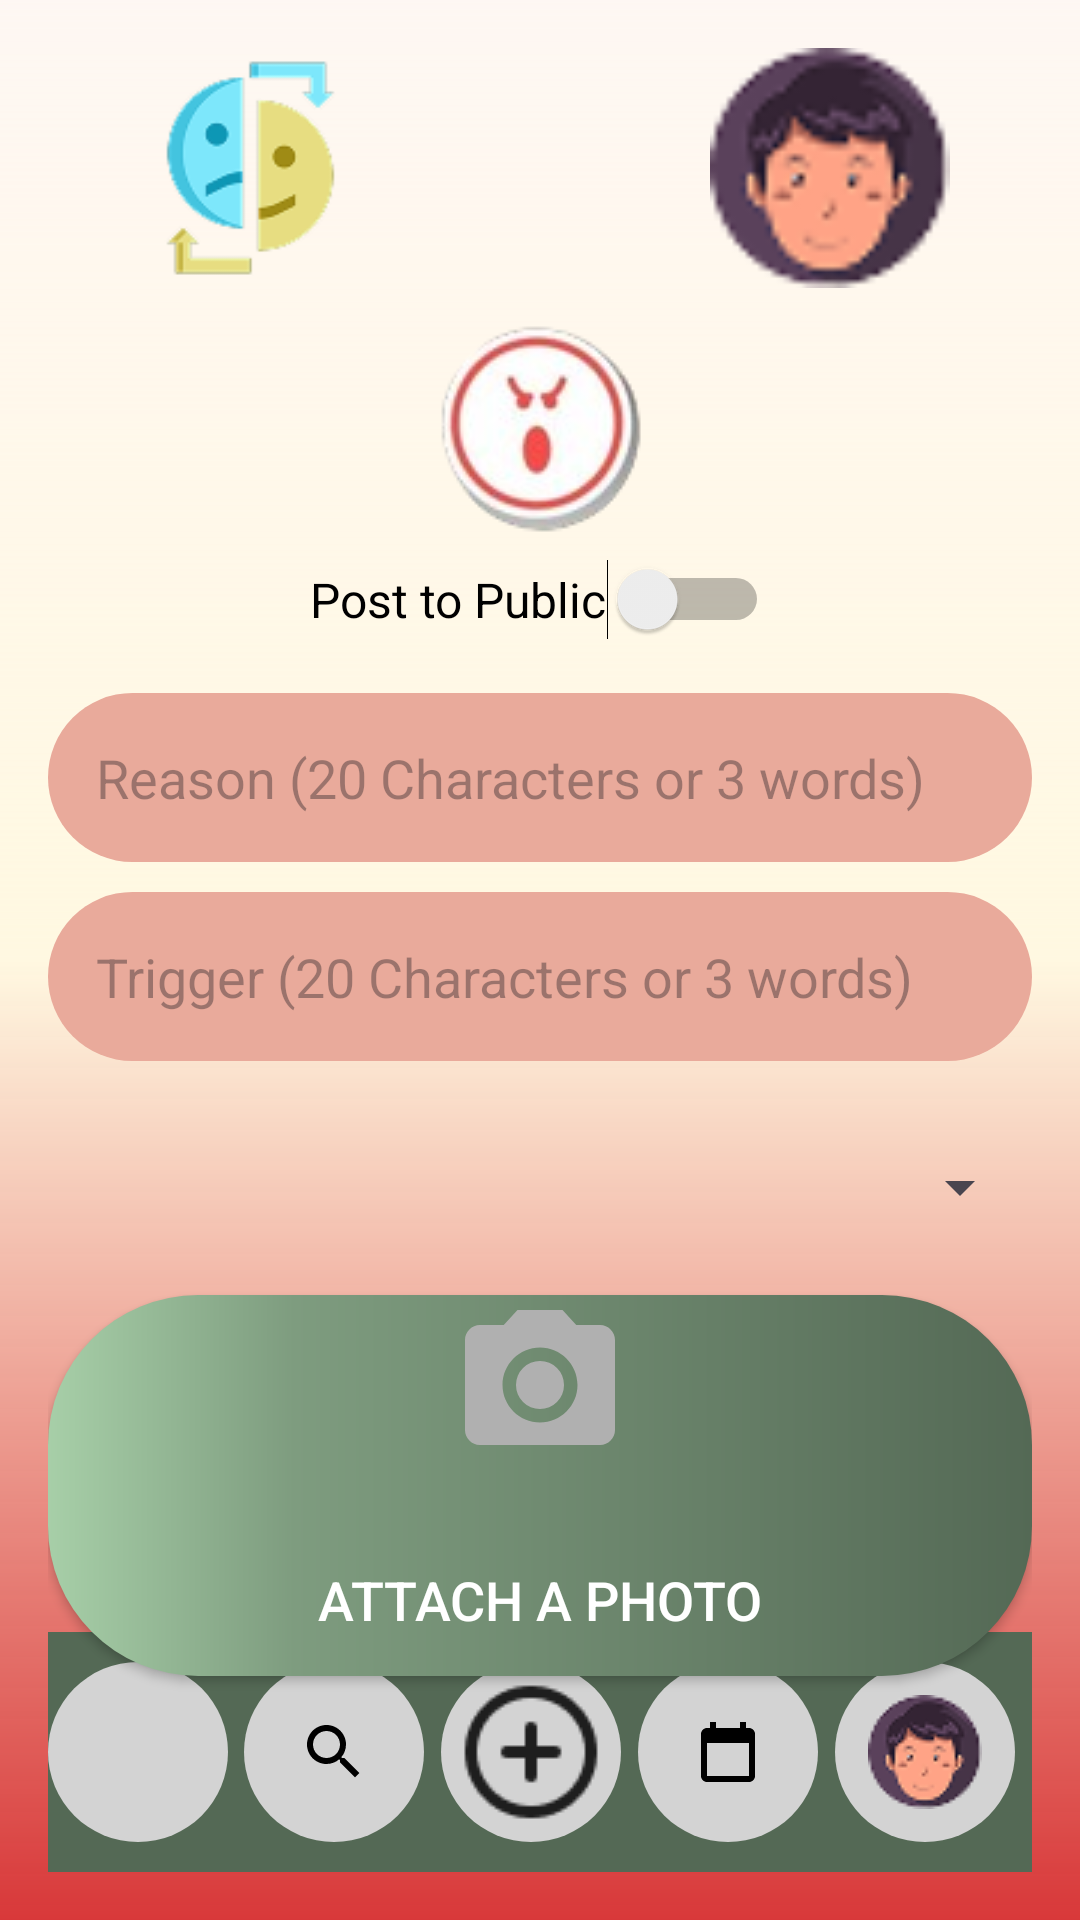

Icon bounding boxes for this 1080px×1920px phone screenshot, format (x1, y1, x2, y2):
calendar: (638, 1662, 818, 1842)
mood: (166, 61, 335, 275)
mood angry: (442, 327, 641, 531)
plus circle: (441, 1662, 621, 1842)
search: (244, 1662, 424, 1842)
